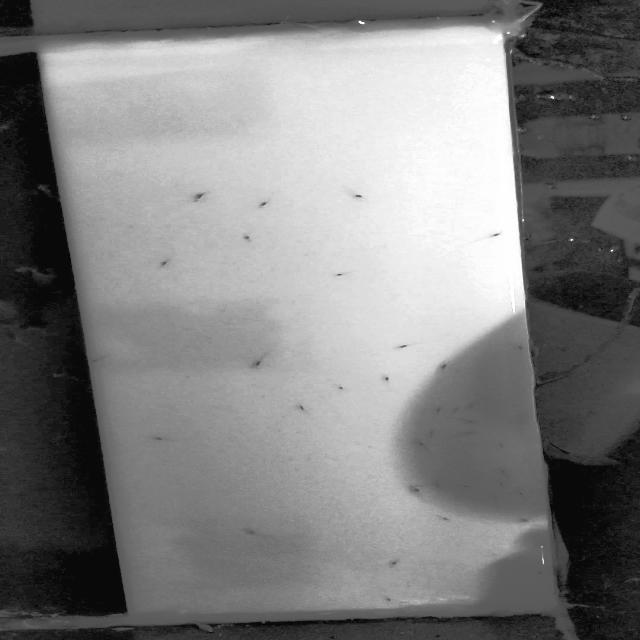shrimp: (407, 484, 438, 504), (188, 188, 217, 204), (387, 339, 414, 355), (87, 353, 123, 365), (454, 482, 484, 496), (245, 198, 280, 210), (242, 527, 273, 540), (152, 254, 185, 266), (410, 425, 440, 438), (458, 403, 483, 418), (252, 351, 274, 368), (414, 443, 445, 455), (526, 564, 552, 577), (459, 416, 489, 426), (457, 428, 481, 440), (486, 439, 508, 451), (291, 401, 311, 414), (374, 596, 402, 605), (382, 557, 403, 569), (241, 229, 259, 243), (348, 192, 372, 202), (431, 408, 449, 421), (516, 515, 537, 526), (498, 477, 514, 491), (376, 374, 394, 386), (474, 231, 501, 239), (446, 406, 460, 421), (431, 516, 456, 524), (436, 363, 455, 373), (512, 489, 529, 500), (433, 479, 447, 492), (152, 434, 170, 444), (515, 342, 529, 354), (331, 272, 352, 280), (489, 492, 503, 503), (338, 384, 352, 394), (533, 591, 557, 596), (496, 470, 512, 475)
